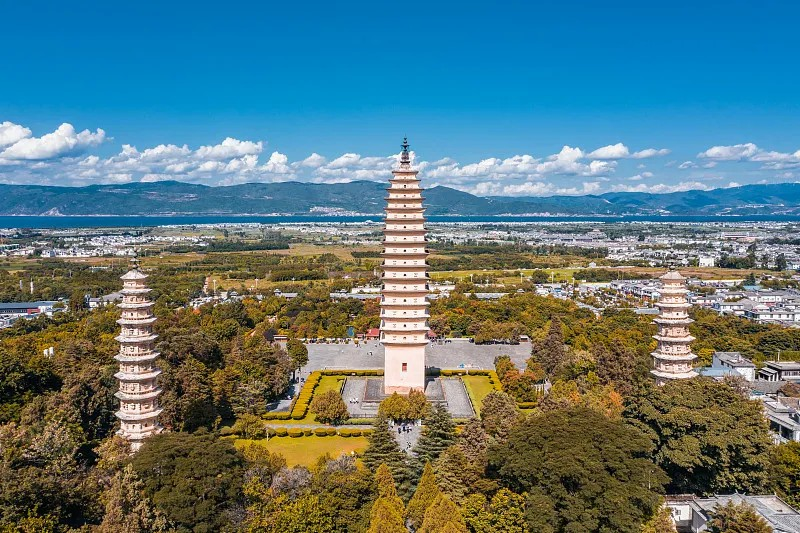ThreePagoda: (379, 132, 429, 395)
